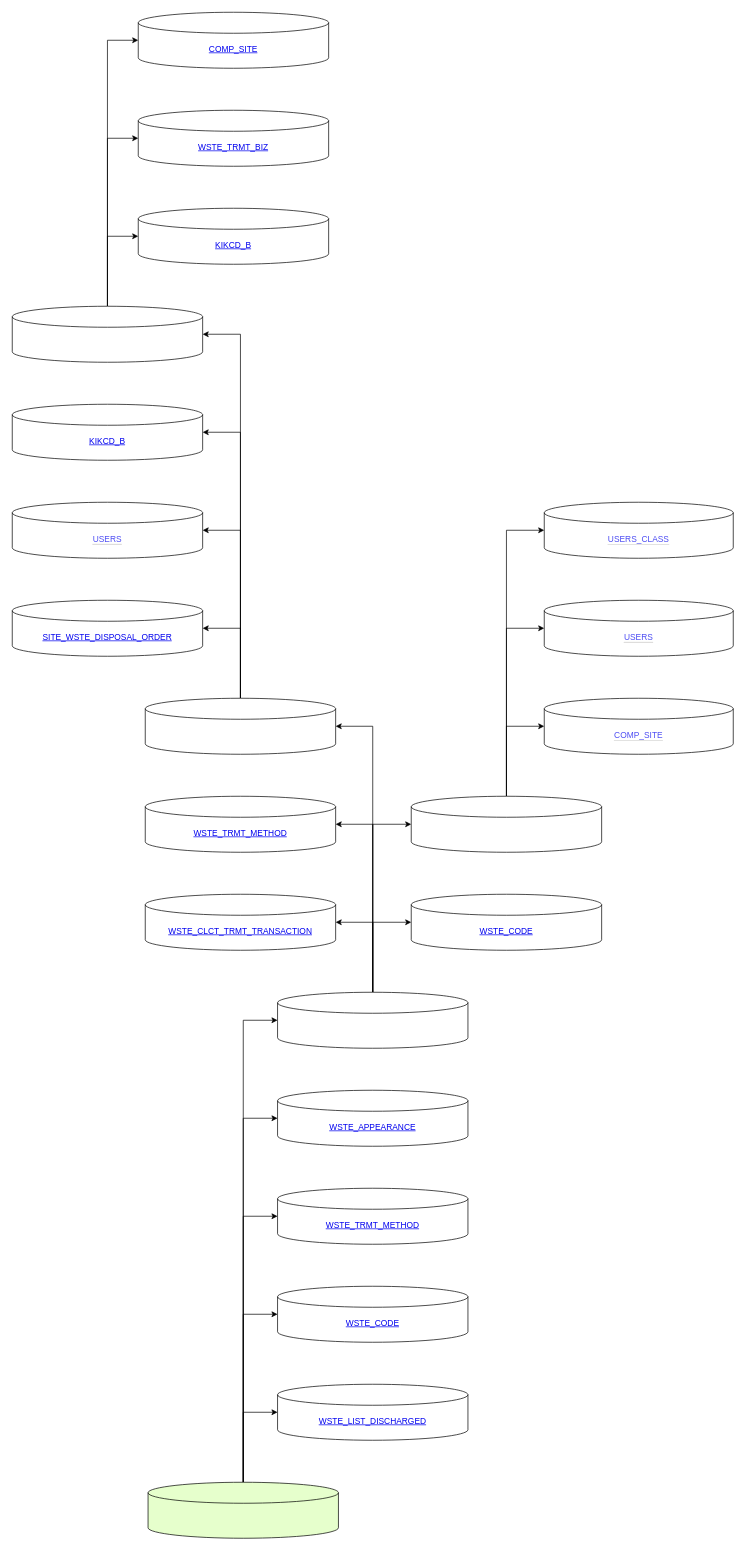
The diagram is 746 pixels wide and 1551 high, and some of its shapes have lost their labels. Each missing label, with the box of its shape:
V_COMP_SITE: (12, 306, 203, 362)
V_SITE_WSTE_DISPOSAL_ORDER: (145, 698, 336, 754)
V_USERS: (411, 796, 602, 852)
V_WSTE_CLCT_TRMT_TRANSACTION: (277, 992, 468, 1048)
V_WSTE_LIST_DISCHARGED: (147, 1482, 338, 1538)
